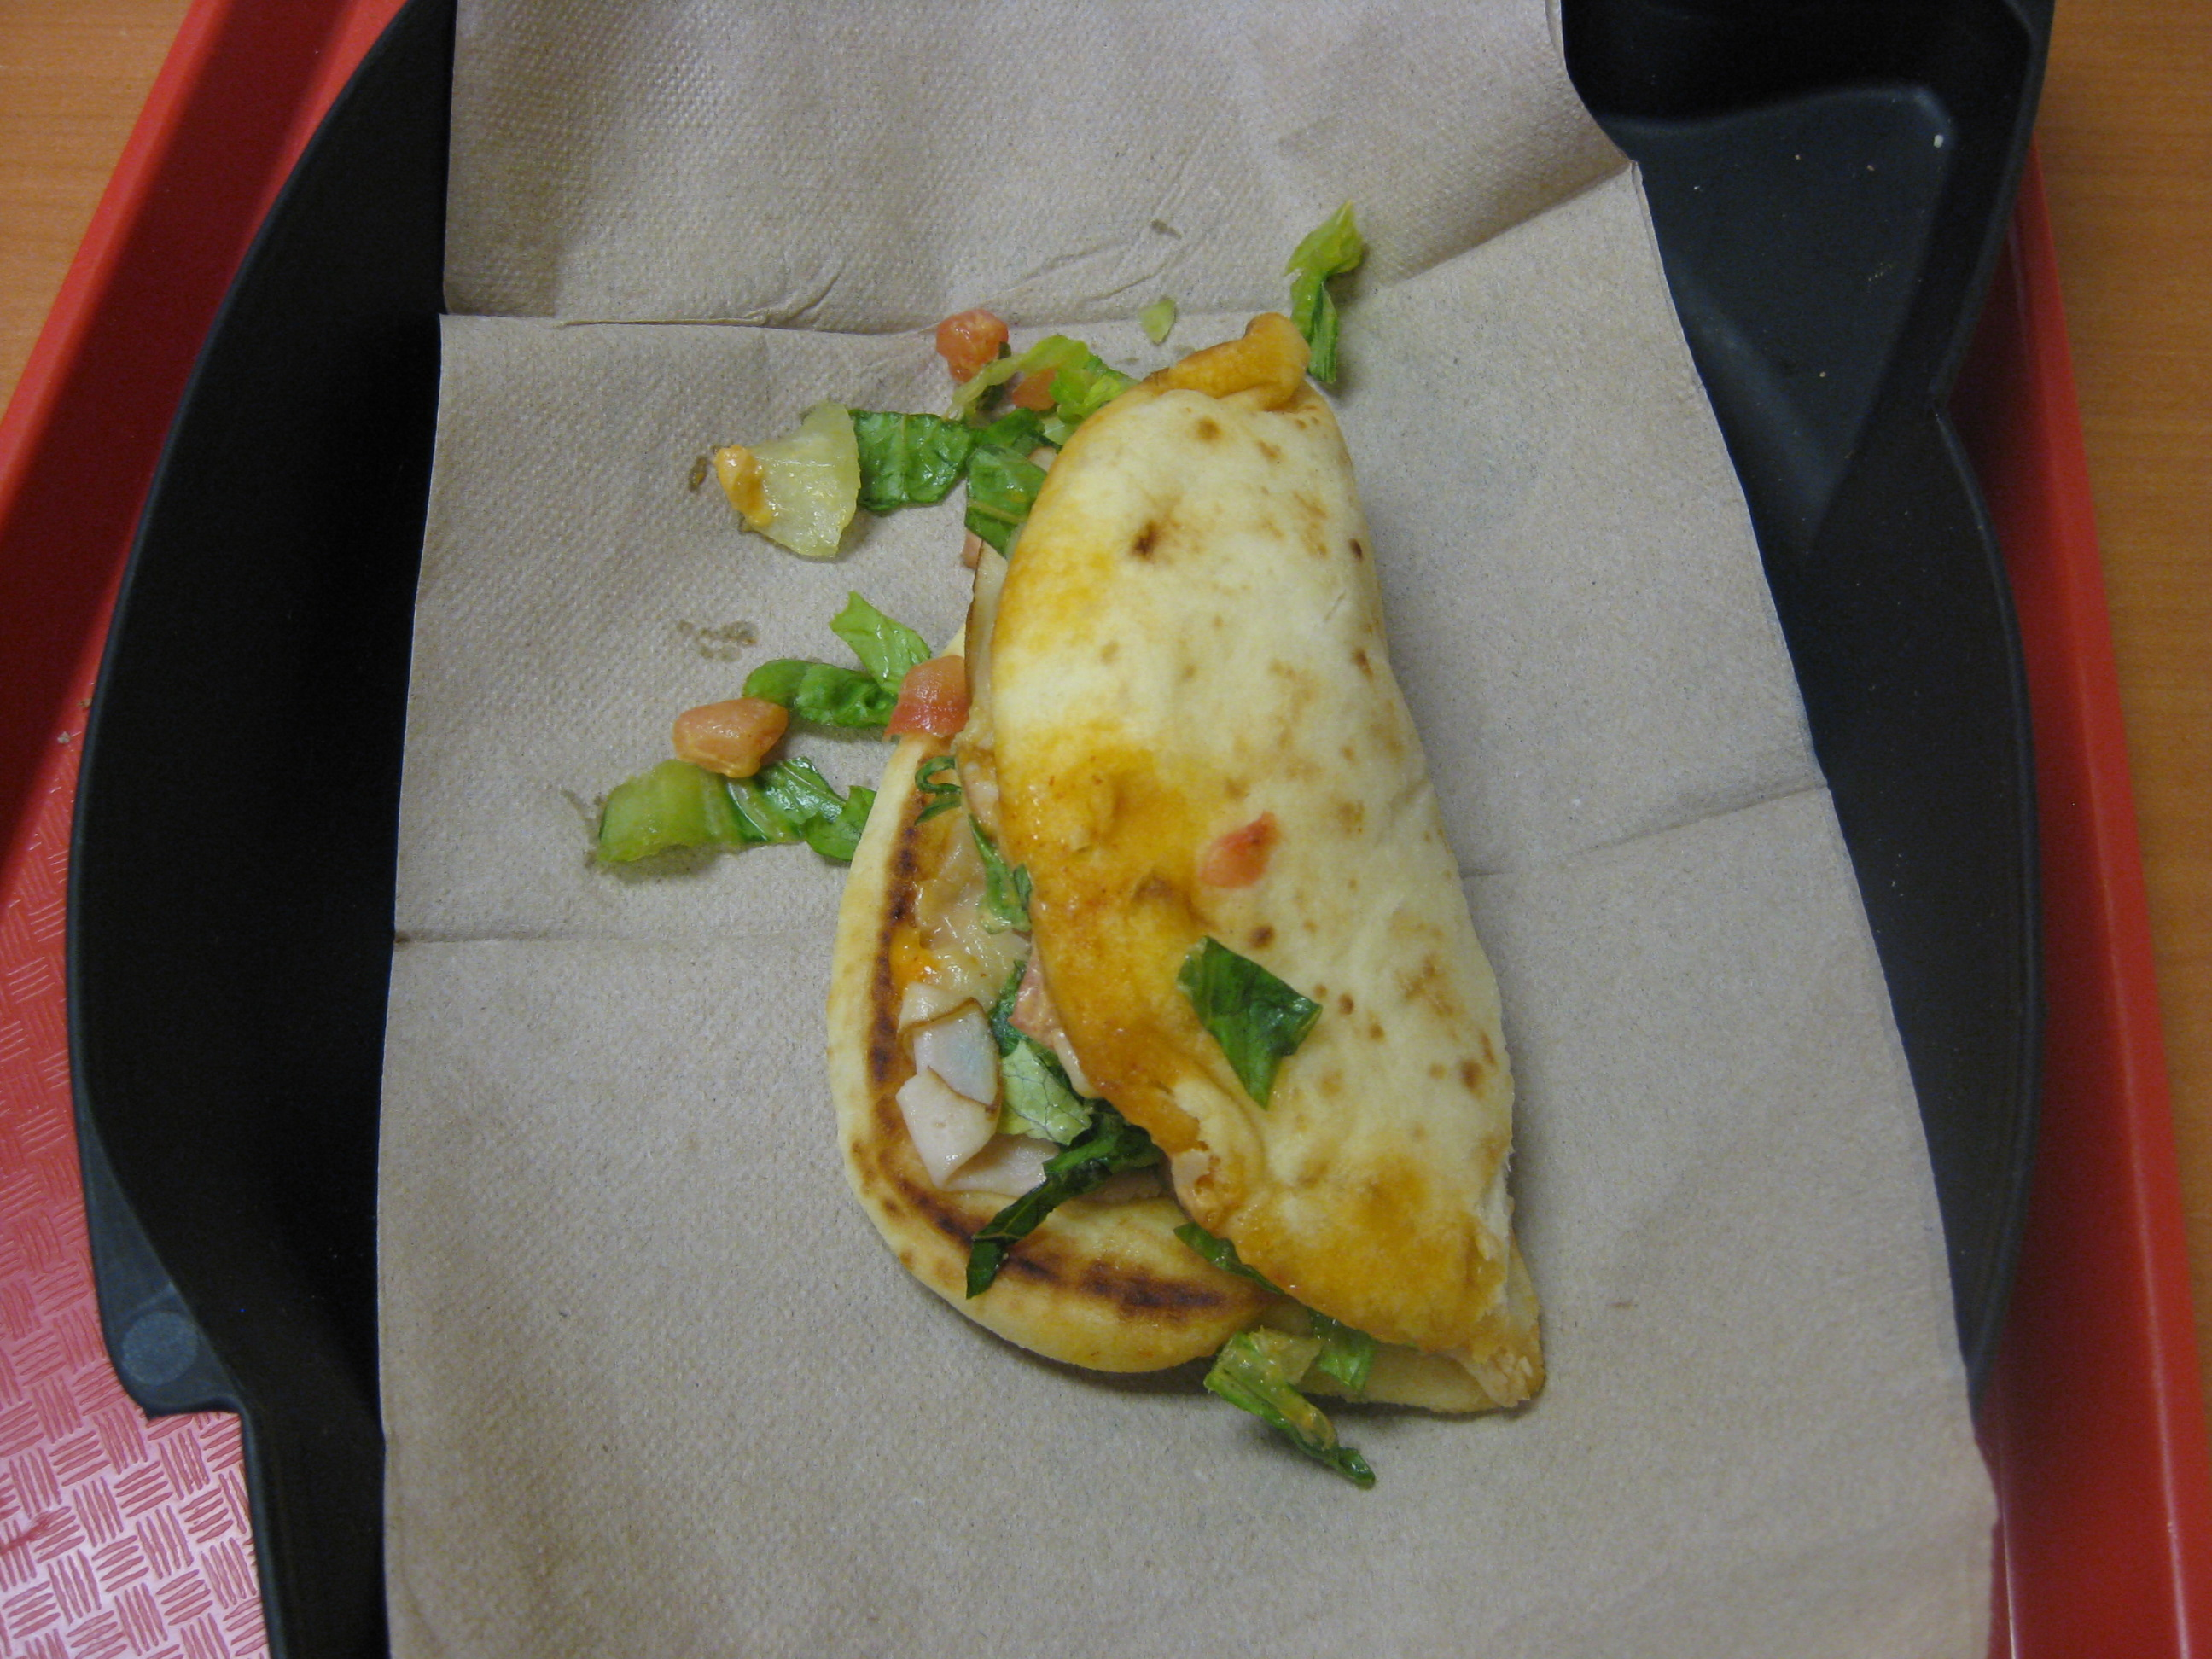taco: (797, 322, 1556, 1460)
